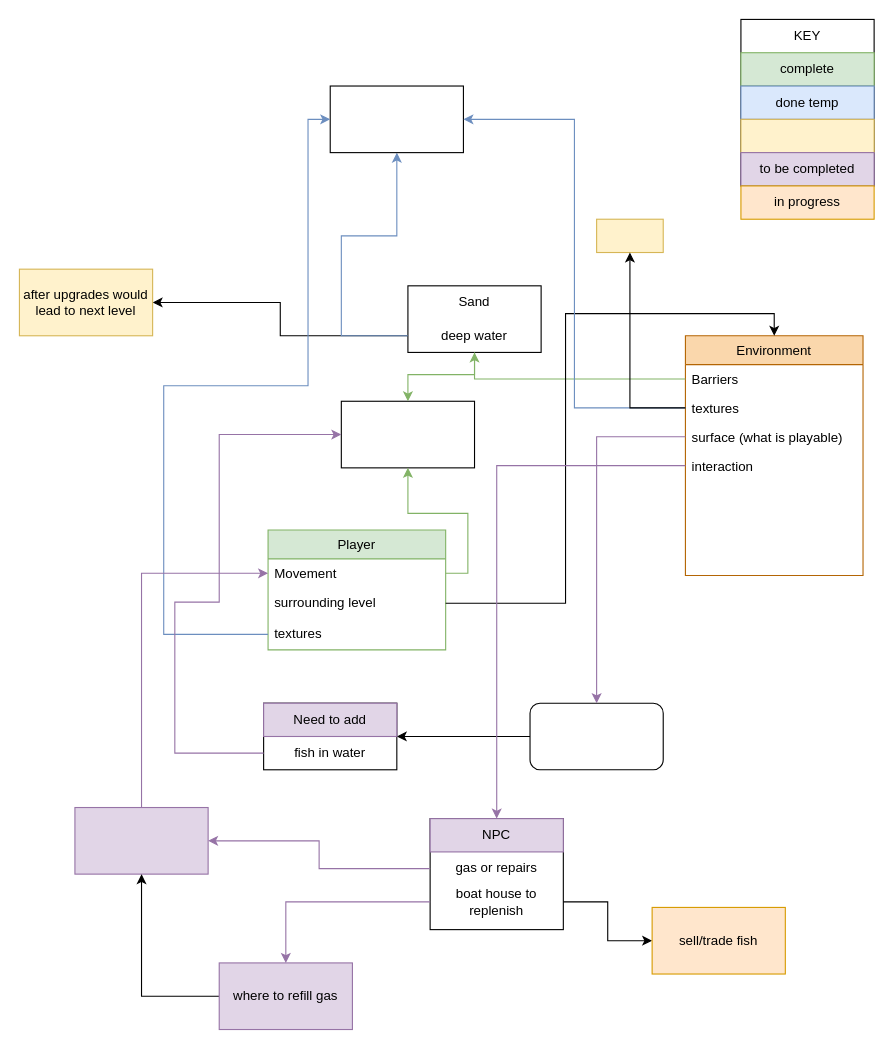
The diagram is 894 pixels wide and 1049 high, and some of its shapes have lost their labels. The shapes that lost their labels are listed below. From the top down, each one's centre as x and y in pixels, then its label:
At point 396,119: "Temporary".
At point 807,135: "not being complete".
At point 629,235: "animate water".
At point 407,434: "Completed in unity".
At point 596,736: "Currently just water".
At point 141,840: "impacts movement".
